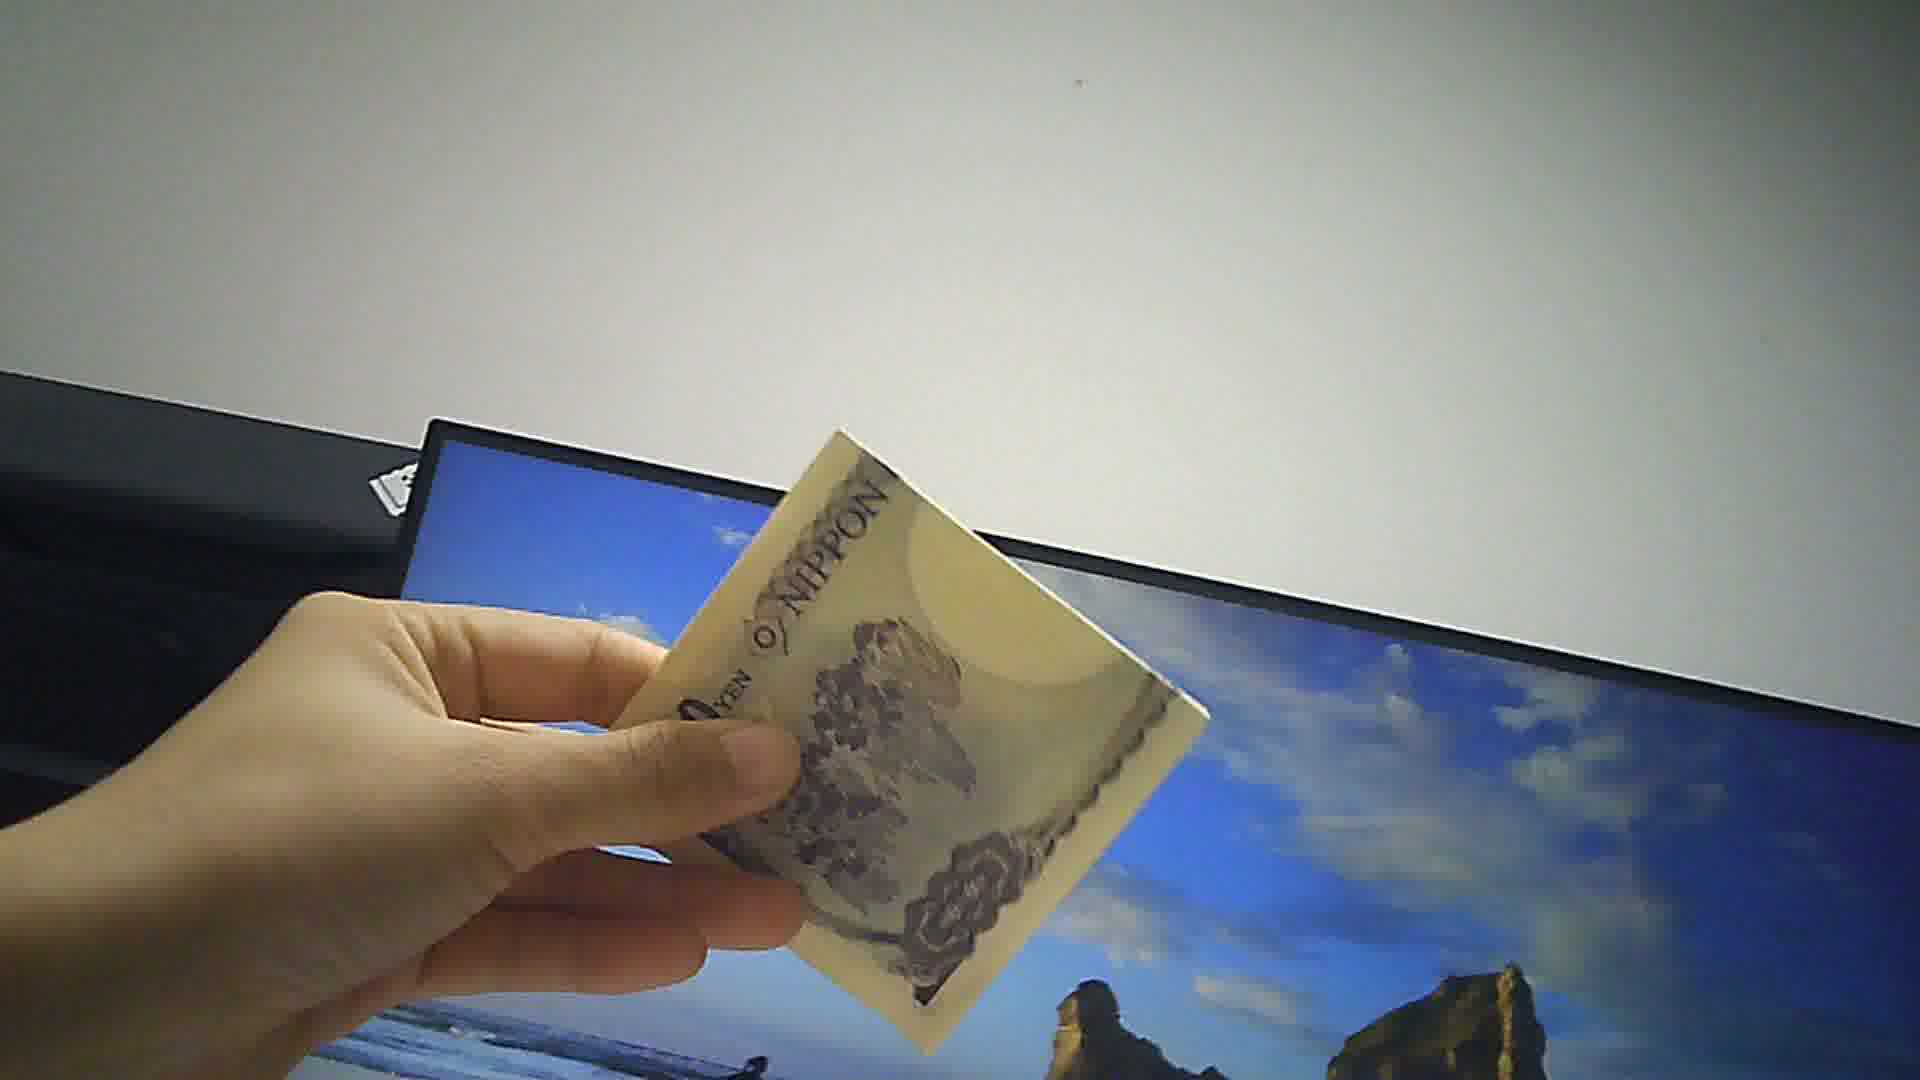5,000 Yen: (583, 427, 1244, 1068)
